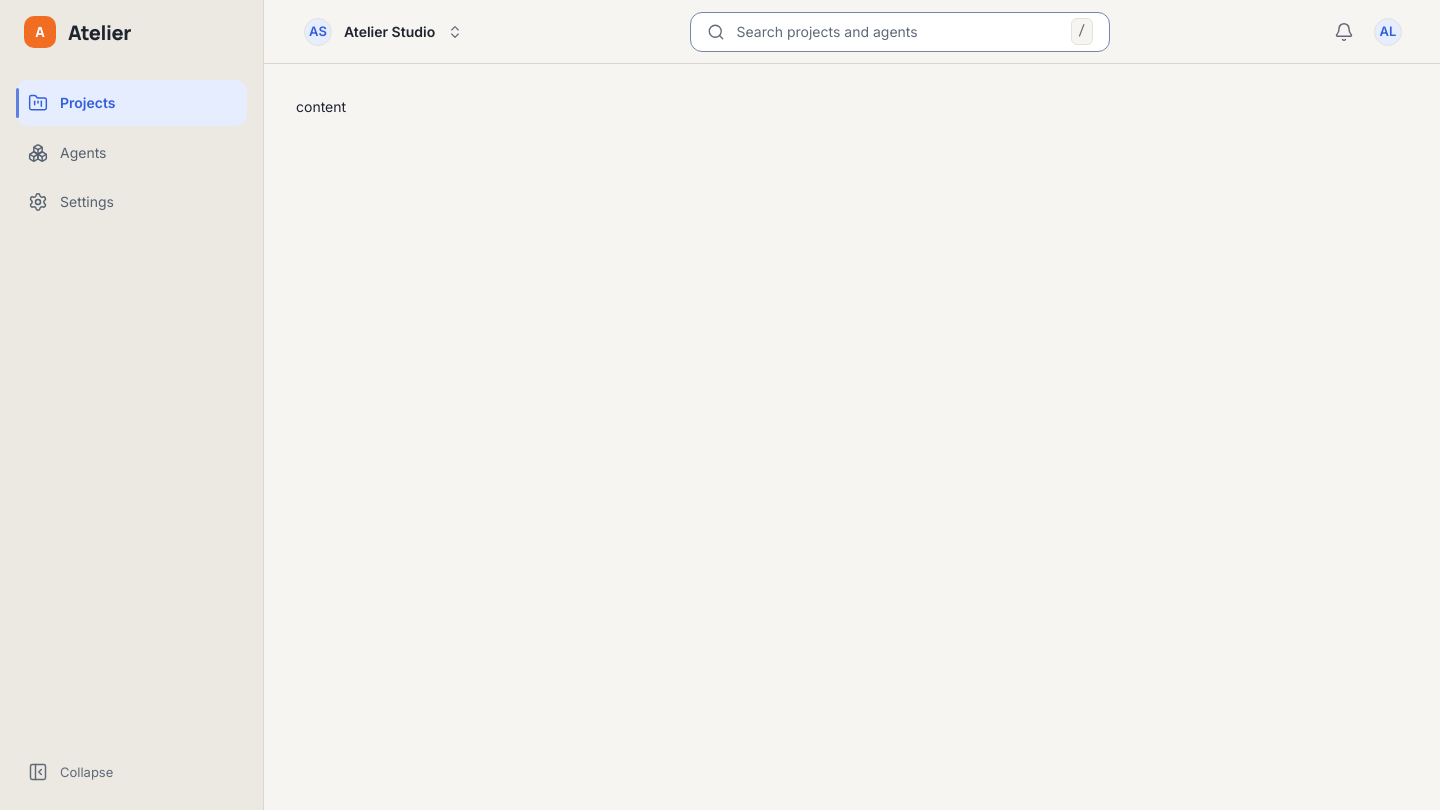
Test: AppShell — sidebar › collapses and persists the choice
Click the button with test id "sidebar-toggle".
click(132, 772)  # box [16,750,247,794]
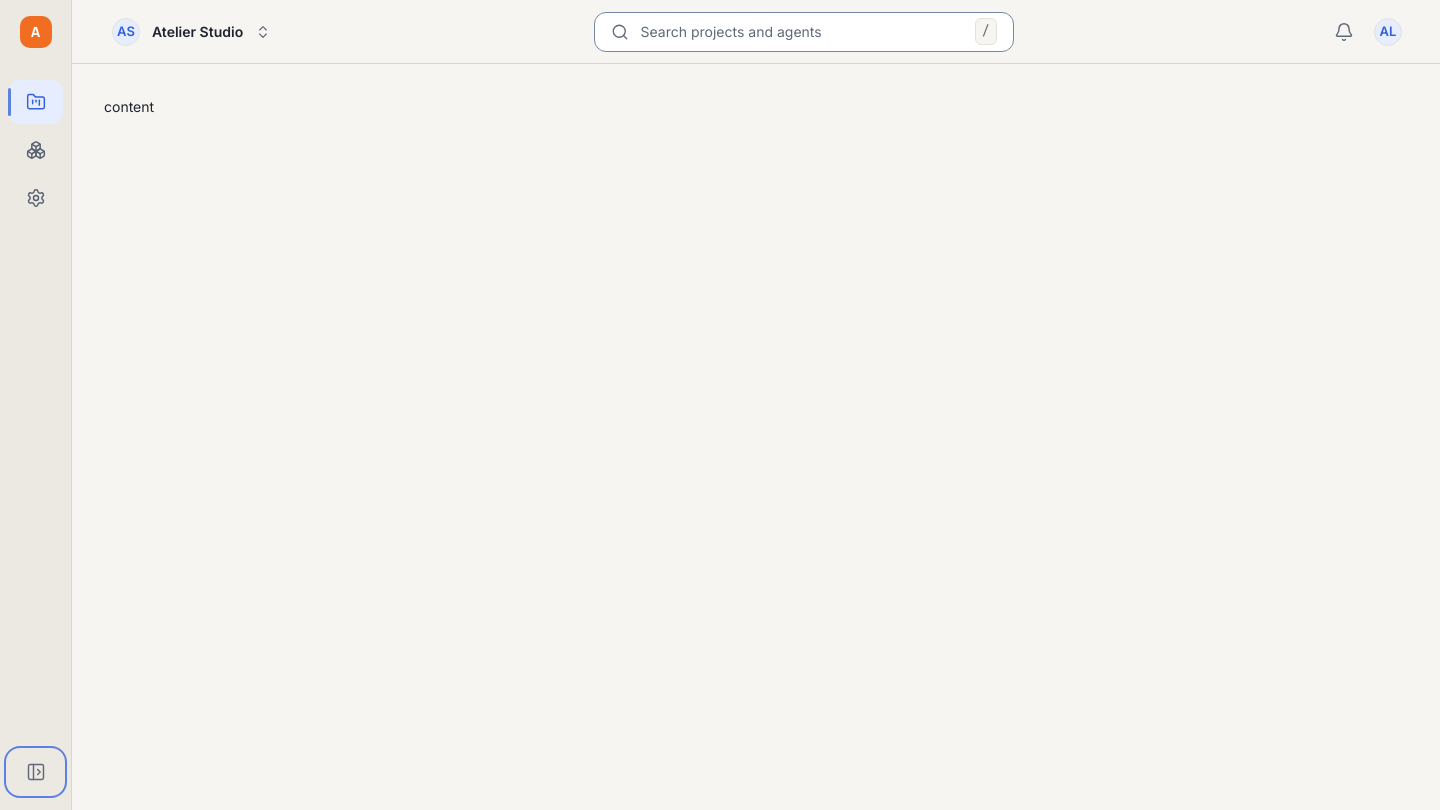
Result: the button named "Expand sidebar" is collapsed at [8,750,63,794]
